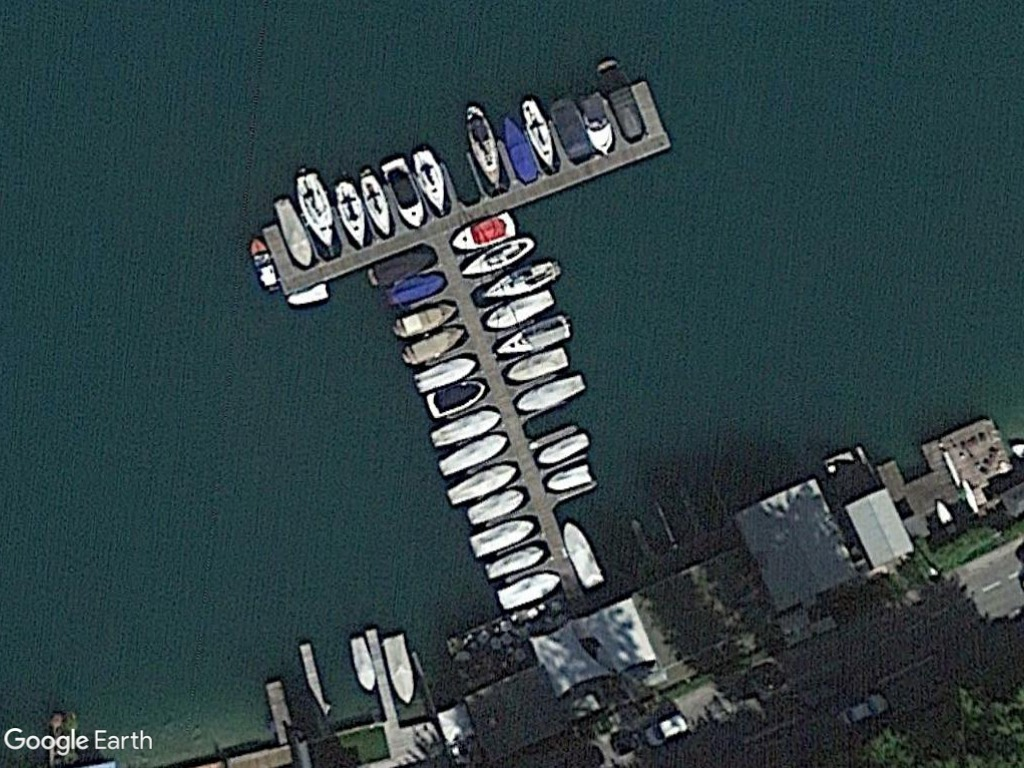boat: (443, 456, 521, 511), (491, 309, 571, 361), (478, 256, 558, 305), (293, 164, 336, 255), (376, 155, 427, 231), (434, 431, 509, 482), (424, 404, 500, 454), (457, 232, 536, 279), (463, 103, 504, 193), (270, 192, 317, 270), (516, 96, 562, 174), (479, 287, 558, 332), (448, 208, 520, 257), (464, 513, 536, 562), (397, 321, 468, 370), (513, 370, 587, 416), (559, 519, 604, 592), (501, 111, 543, 187), (377, 630, 417, 709), (407, 144, 448, 220), (494, 568, 562, 612), (411, 352, 477, 397), (354, 163, 393, 238), (331, 172, 368, 251), (575, 88, 616, 158), (389, 298, 458, 339), (424, 375, 488, 419), (504, 343, 571, 385), (464, 484, 526, 528), (482, 540, 545, 582), (532, 428, 591, 471), (345, 634, 380, 696), (246, 234, 280, 294), (544, 459, 596, 496)
